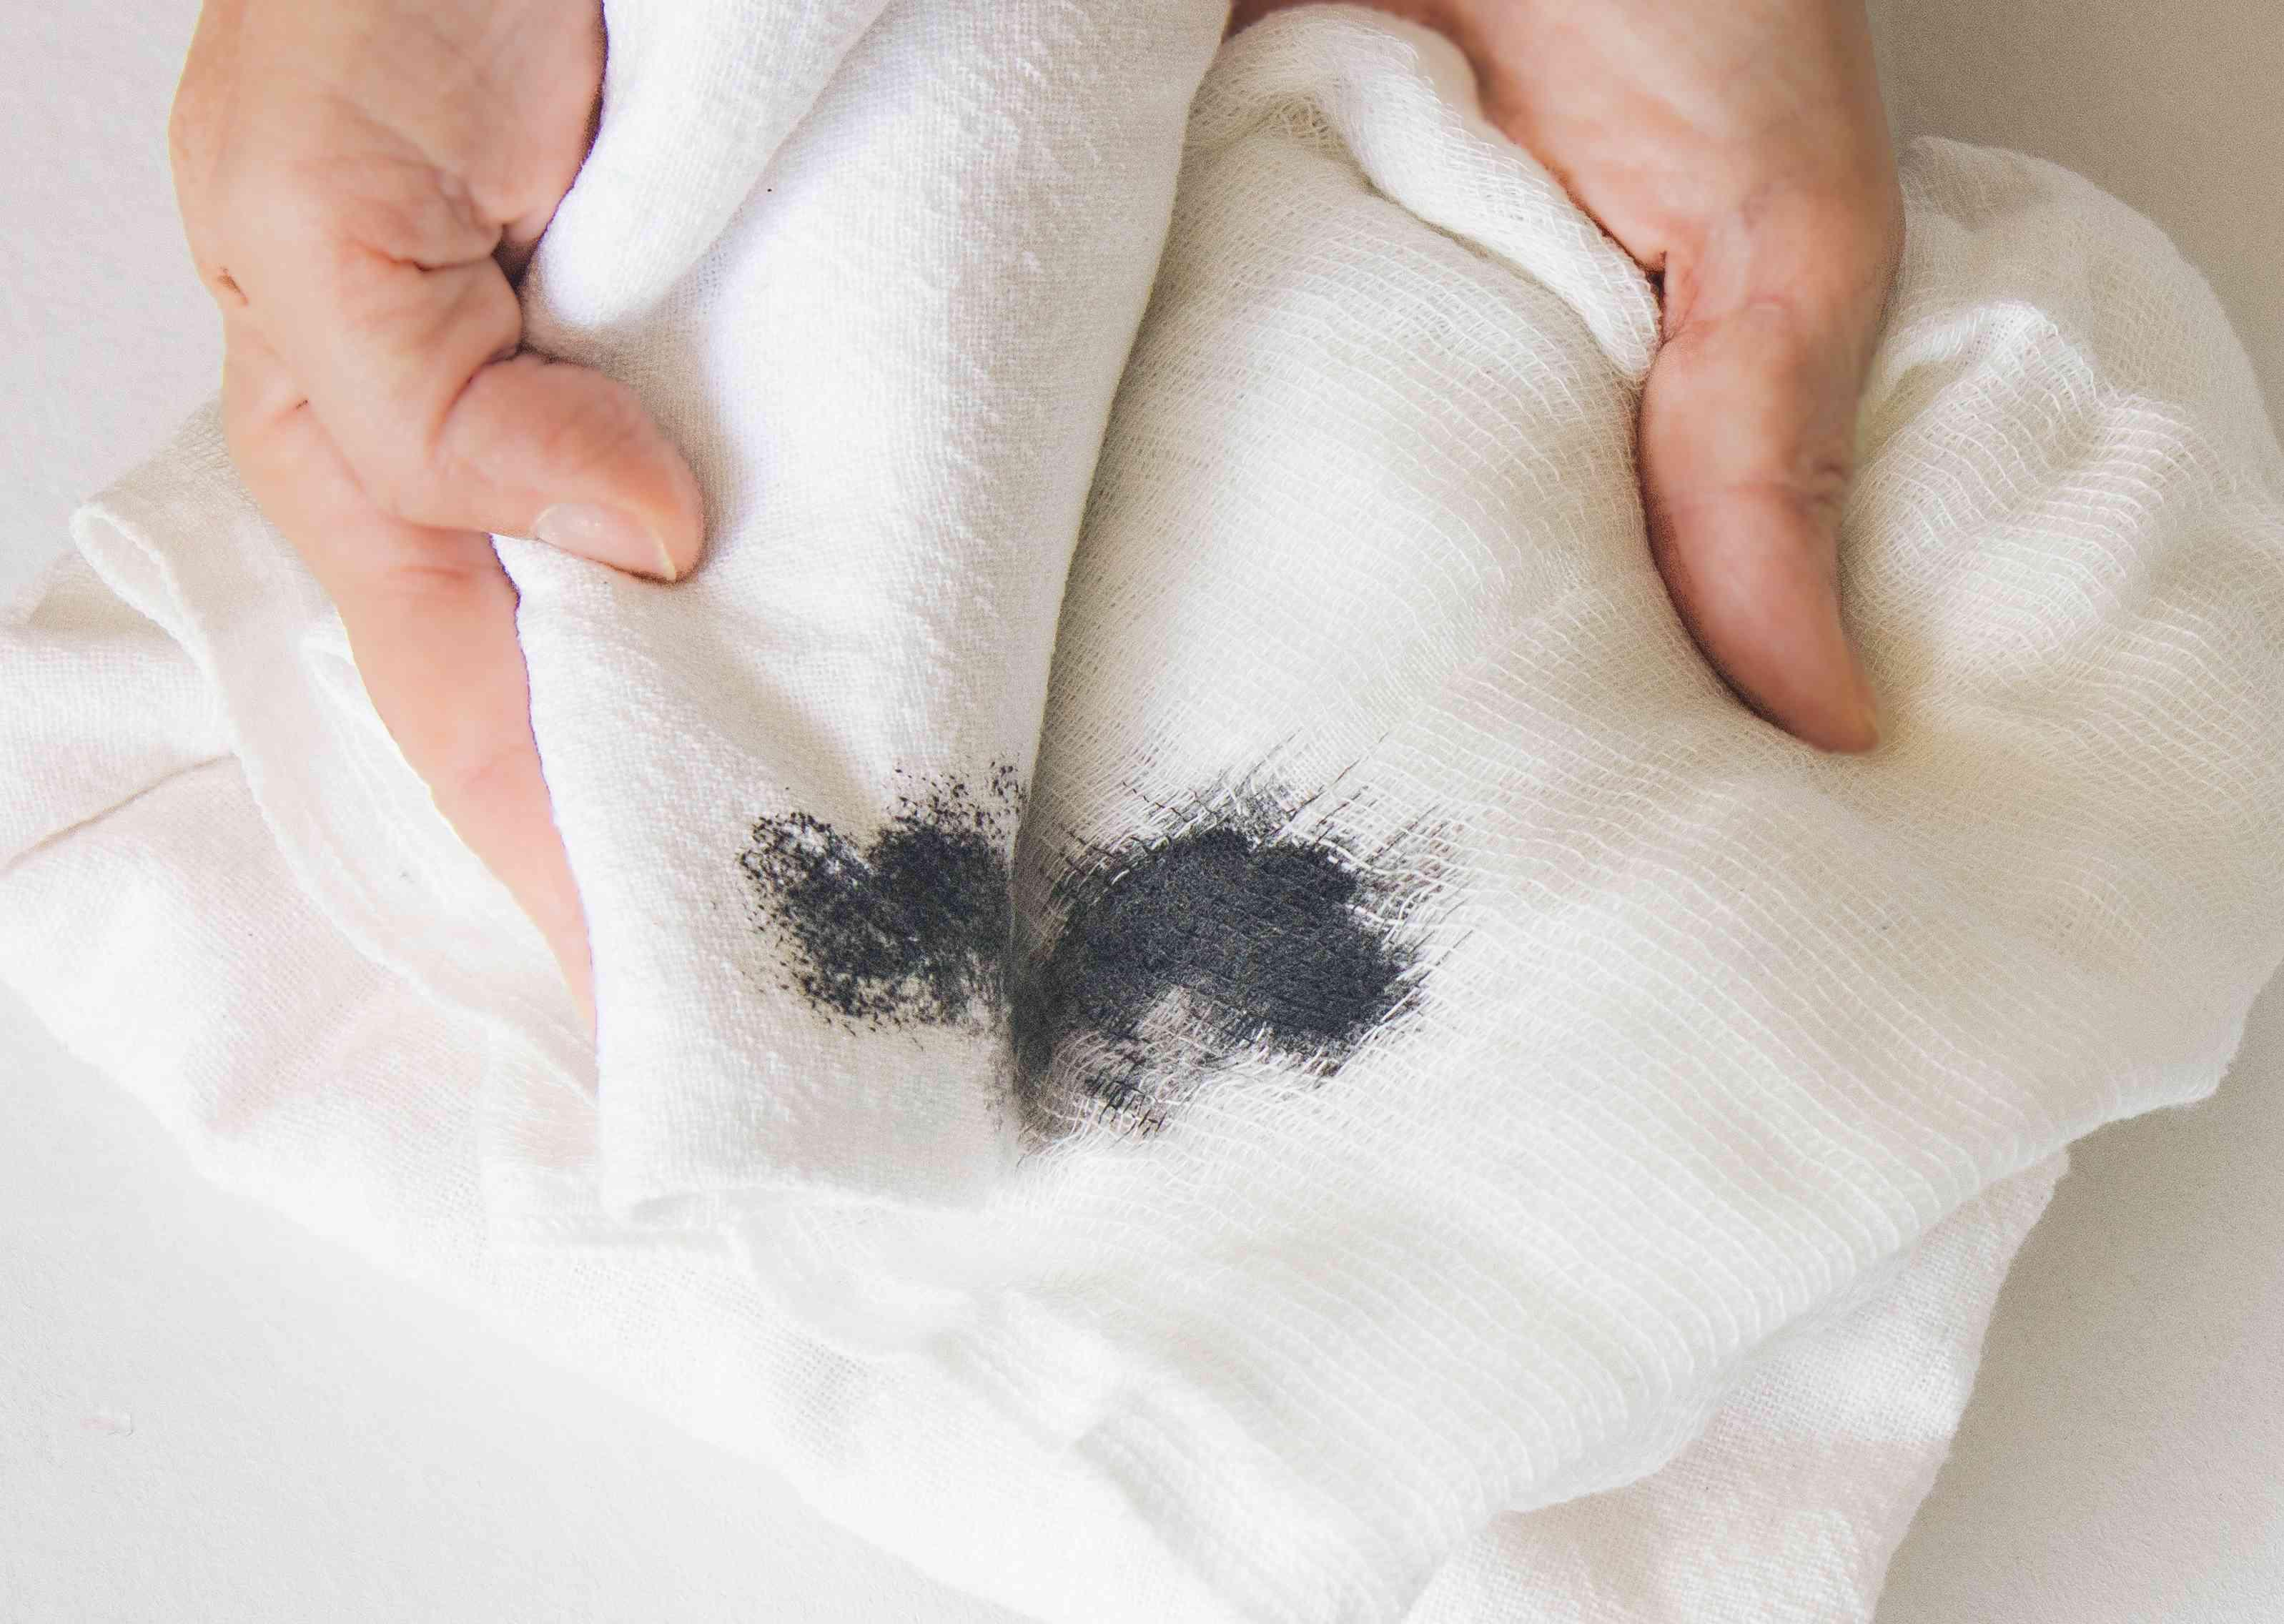gun: (685, 770, 1476, 1139)
